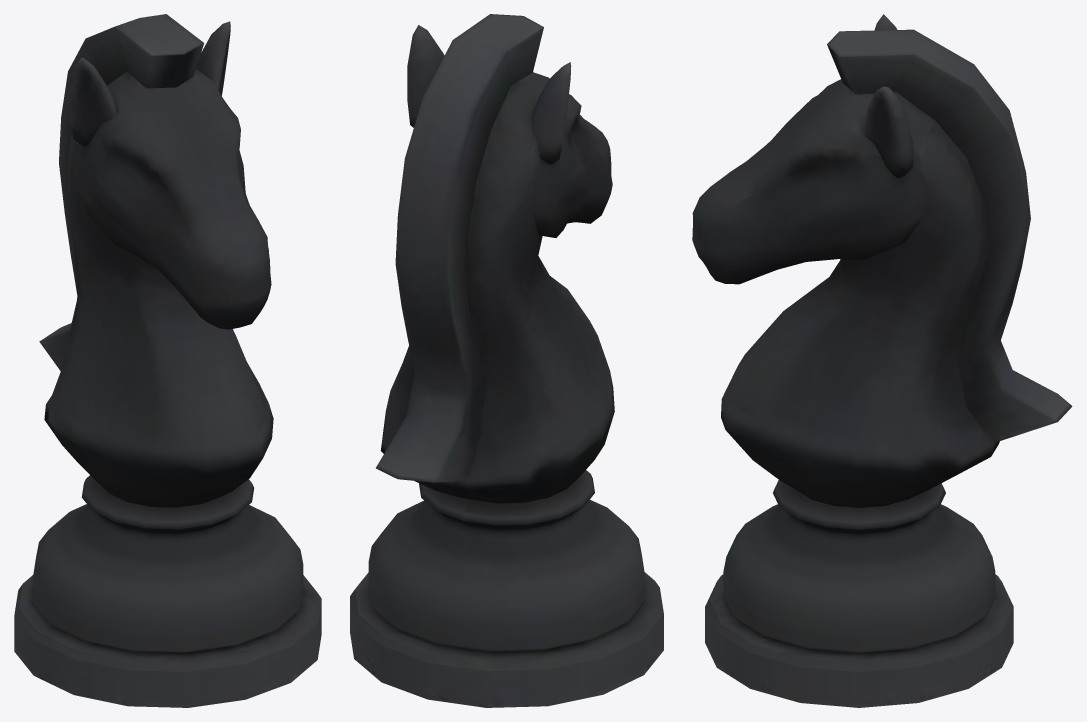
Rendered from knight_black.glb.
The picture shows the model from 3 angles, left to right: view 1: azimuth 30°, elevation 25°; view 2: azimuth 150°, elevation 25°; view 3: azimuth 270°, elevation 25°; orthographic projection. The views are drawn at different scales.
Parts seen in each view (by area): view 1: knight_black; view 2: knight_black; view 3: knight_black.
Part boxes in pixels (<box>): knight_black: <box>14,14,321,707</box>; knight_black: <box>350,14,663,707</box>; knight_black: <box>692,14,1072,707</box>.
Size of the model in its own units: 1.28 by 2.76 by 1.58.
1 material, 1 textured.
